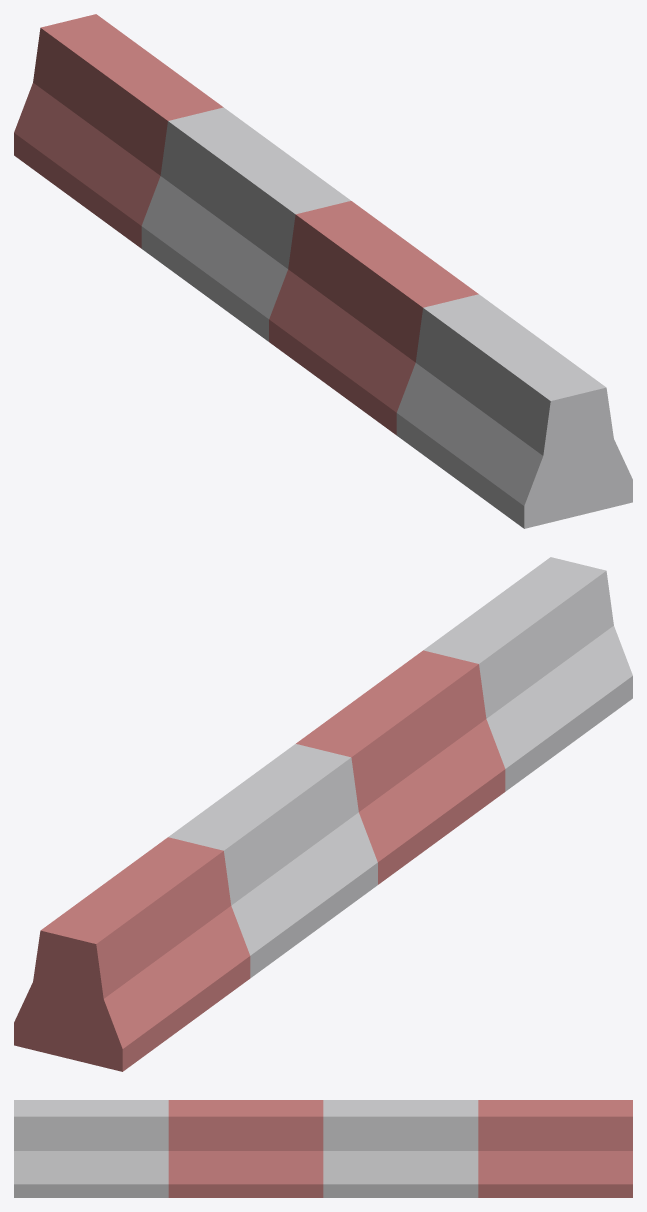
Rendered from barrier_wall.glb.
3 views of the same model, one above another, from view 1: azimuth 30°, elevation 25°; view 2: azimuth 150°, elevation 25°; view 3: azimuth 270°, elevation 25° (orthographic). The views are drawn at different scales.
Visible parts, largest first — view 1: barrierWall(Clone); view 2: barrierWall(Clone); view 3: barrierWall(Clone).
Boxes of the visible parts, x1,y1,x2,y2 form: barrierWall(Clone): [14, 14, 632, 528]; barrierWall(Clone): [14, 557, 632, 1071]; barrierWall(Clone): [14, 1100, 632, 1197].
Size of the model in its own units: 0.738 by 0.7872 by 6.
